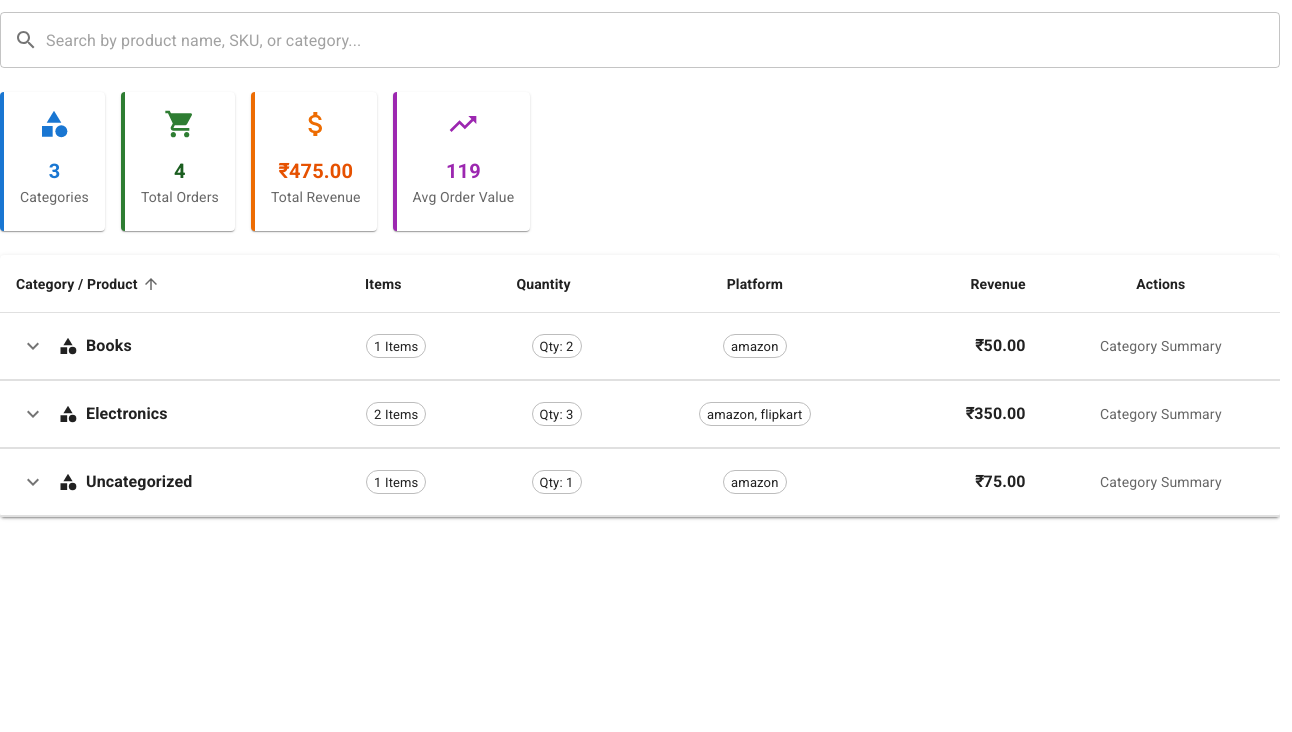
CategoryGroupedTable › expands accordion when clicked
The width and height of the screenshot is (1292, 732).
Click the button "Electronics".
click(640, 414)  # box [0,381,1280,448]
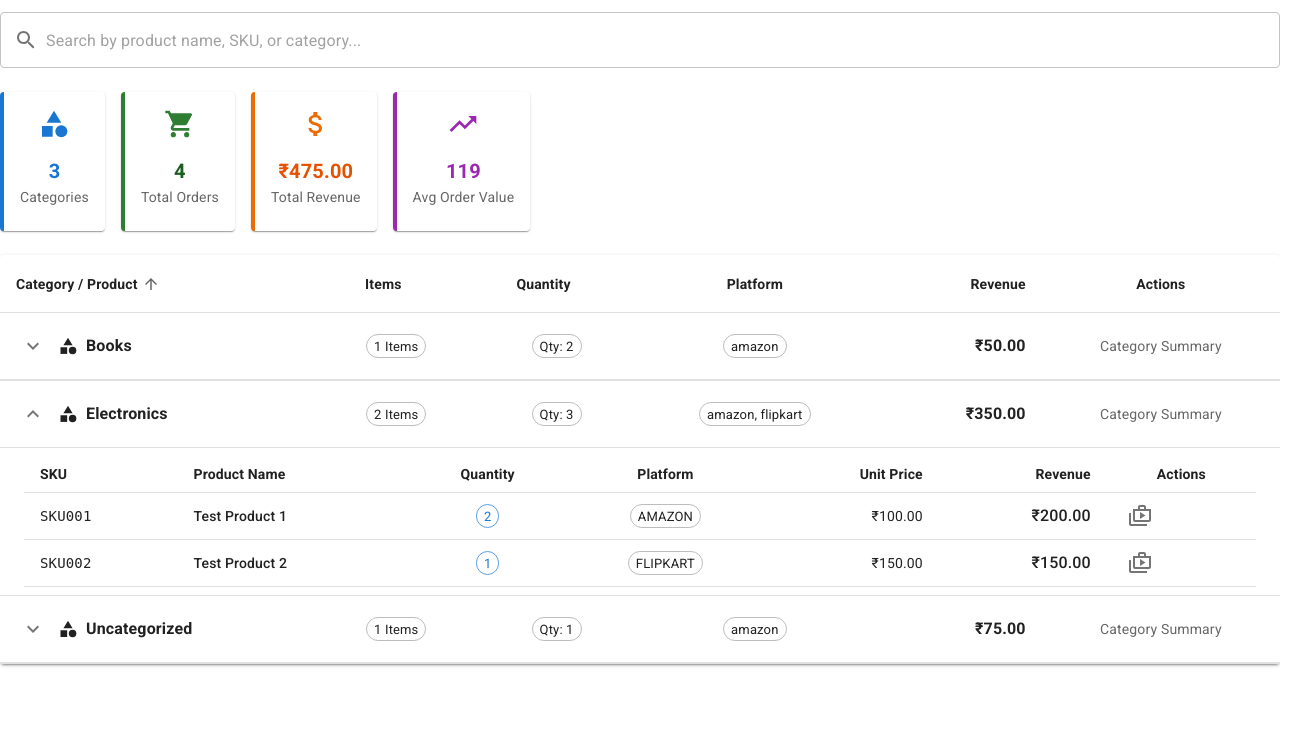
Expected: the text "SKU001" is shown, [24,493,178,540]
Expected: the text "Test Product 1" is shown, [194,508,287,524]
